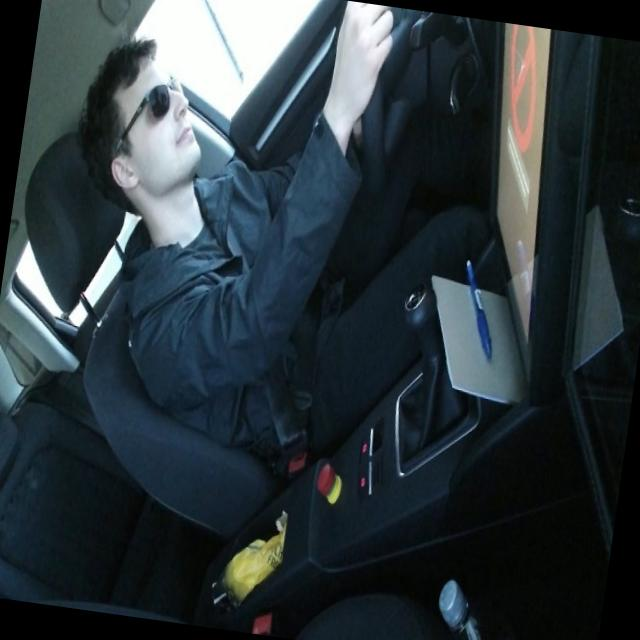pen: (452, 256, 505, 360)
